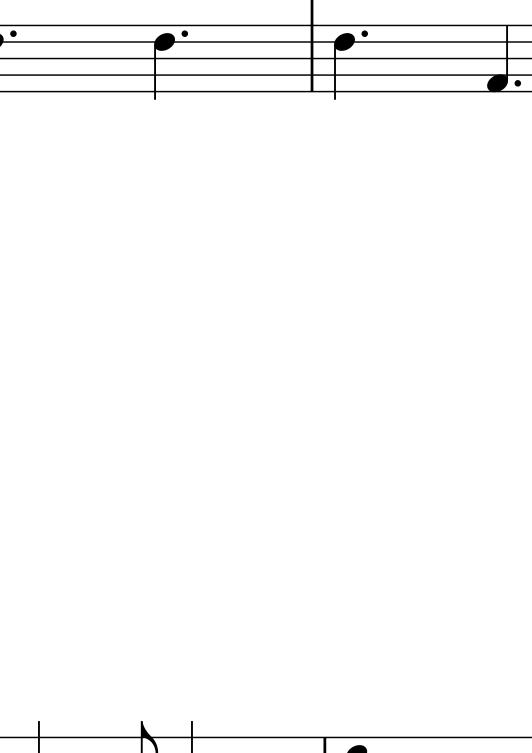4_1: (483, 23, 511, 93)
4_6: (333, 23, 359, 101), (152, 22, 175, 102)
Single_barline: (305, 26, 319, 91)
dot: (360, 27, 370, 40), (512, 78, 523, 89), (181, 28, 189, 39), (9, 28, 18, 37)
